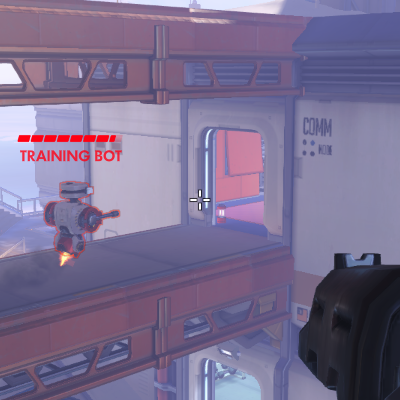hpbar: (17, 134, 123, 143)
